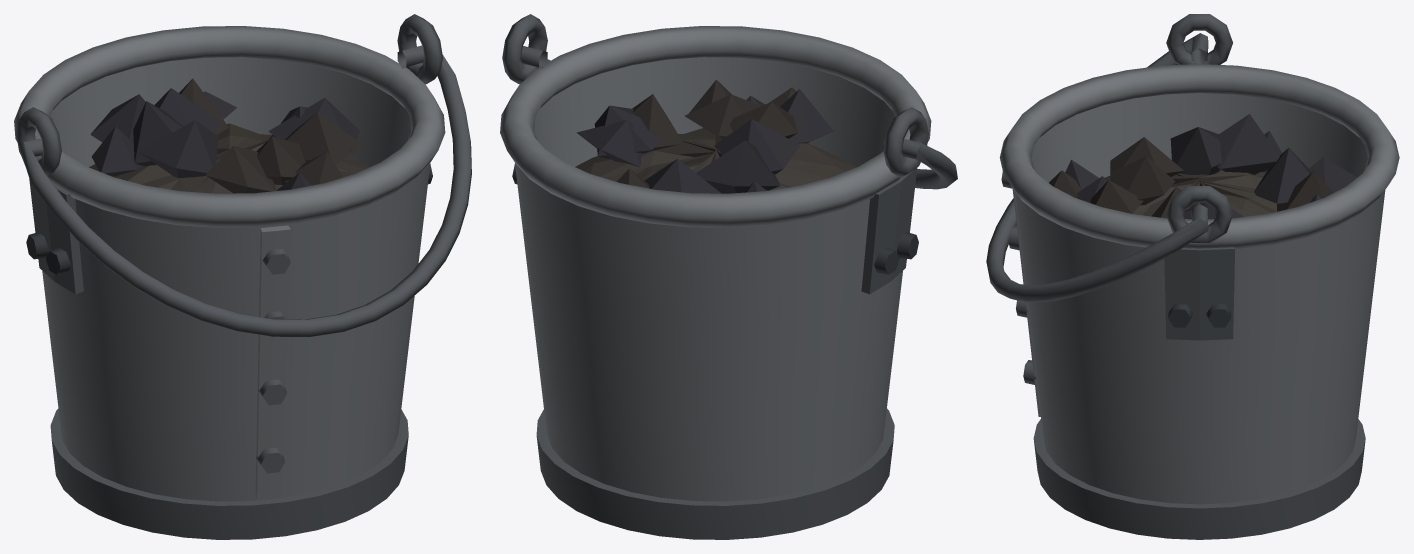
Rendered from SM_LPD_Crate_BucketIron_01.fbx.
3 renders of one model, left to right at view 1: azimuth 30°, elevation 25°; view 2: azimuth 150°, elevation 25°; view 3: azimuth 270°, elevation 25°, orthographic. The views are drawn at different scales.
Parts seen in each view (by area): view 1: SM_LPD_Crate_BucketIron_01; view 2: SM_LPD_Crate_BucketIron_01; view 3: SM_LPD_Crate_BucketIron_01.
Part boxes in pixels (left/top/right/bottom): SM_LPD_Crate_BucketIron_01: left=14, top=14, right=471, bottom=539; SM_LPD_Crate_BucketIron_01: left=500, top=14, right=957, bottom=539; SM_LPD_Crate_BucketIron_01: left=986, top=14, right=1399, bottom=539.
Bounding box in the file's own units: 0.3733 × 0.3362 × 0.339.
